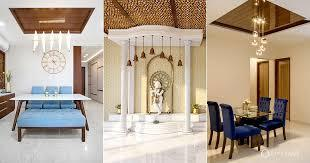chair: (18, 108, 87, 145), (220, 103, 260, 156), (258, 98, 286, 149), (206, 101, 223, 149), (248, 97, 270, 125), (44, 84, 62, 111), (30, 84, 45, 111), (61, 86, 73, 108)
clock: (39, 52, 68, 75)
door: (276, 60, 290, 118), (257, 63, 271, 112)
light: (250, 0, 269, 58), (29, 29, 39, 53), (64, 27, 74, 51), (57, 27, 64, 52), (49, 28, 56, 52), (40, 28, 46, 53), (82, 52, 91, 61)
table: (10, 95, 93, 135), (229, 104, 271, 149), (0, 91, 16, 120)
